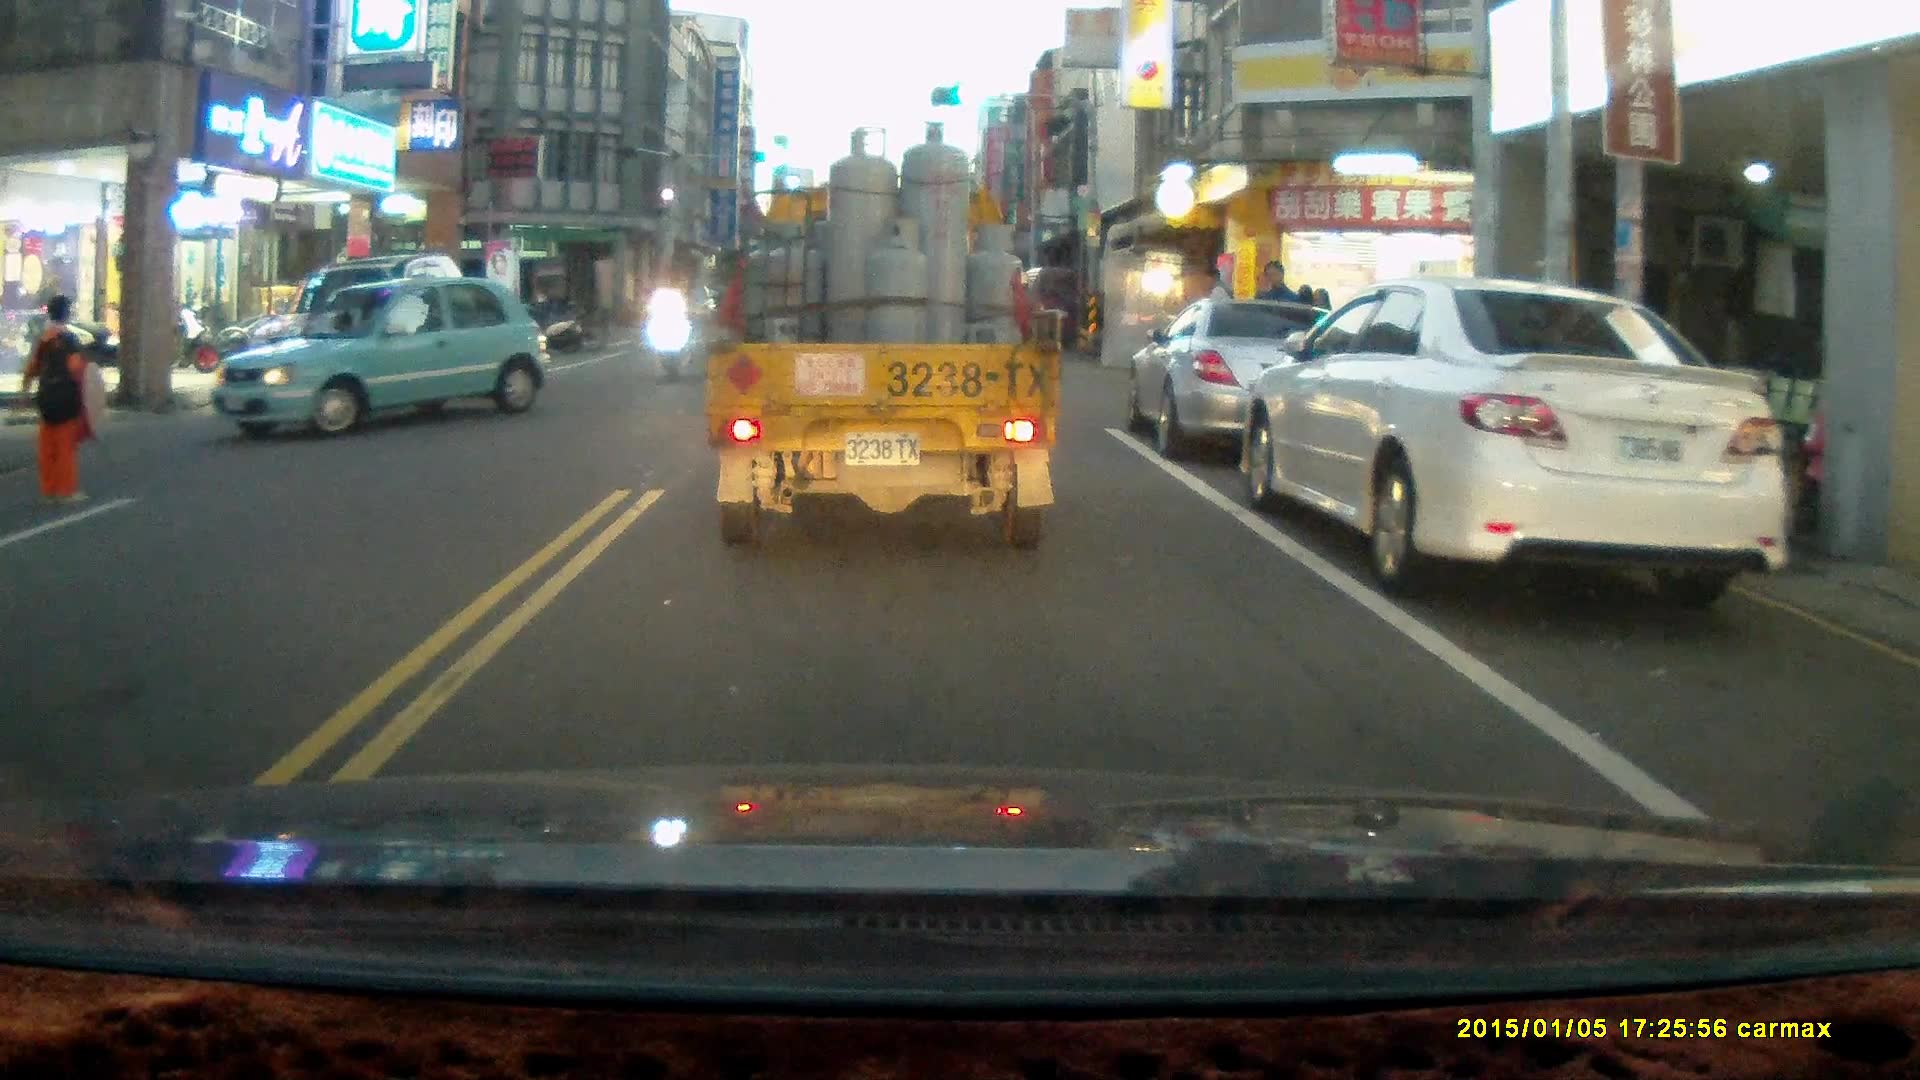pedestrian: (15, 293, 107, 508)
rider: (653, 278, 688, 382)
vehicle: (1242, 282, 1796, 610), (703, 124, 1062, 551), (217, 279, 543, 441), (1135, 297, 1379, 464)
